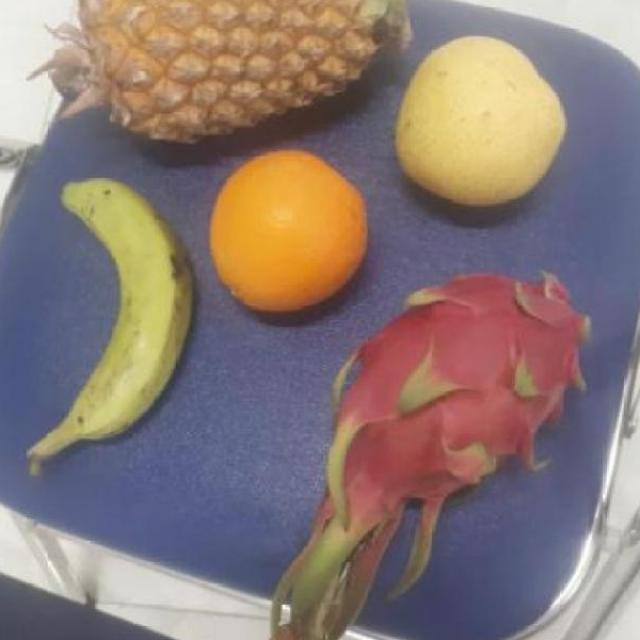banana: (46, 179, 204, 448)
dragon fruit: (320, 274, 598, 518)
guava: (395, 41, 575, 209)
pear: (205, 150, 374, 312)
pineapple: (85, 0, 400, 152)
